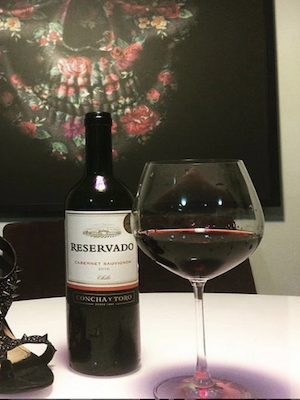reservado cabernet sauvignon: (64, 114, 154, 372)
